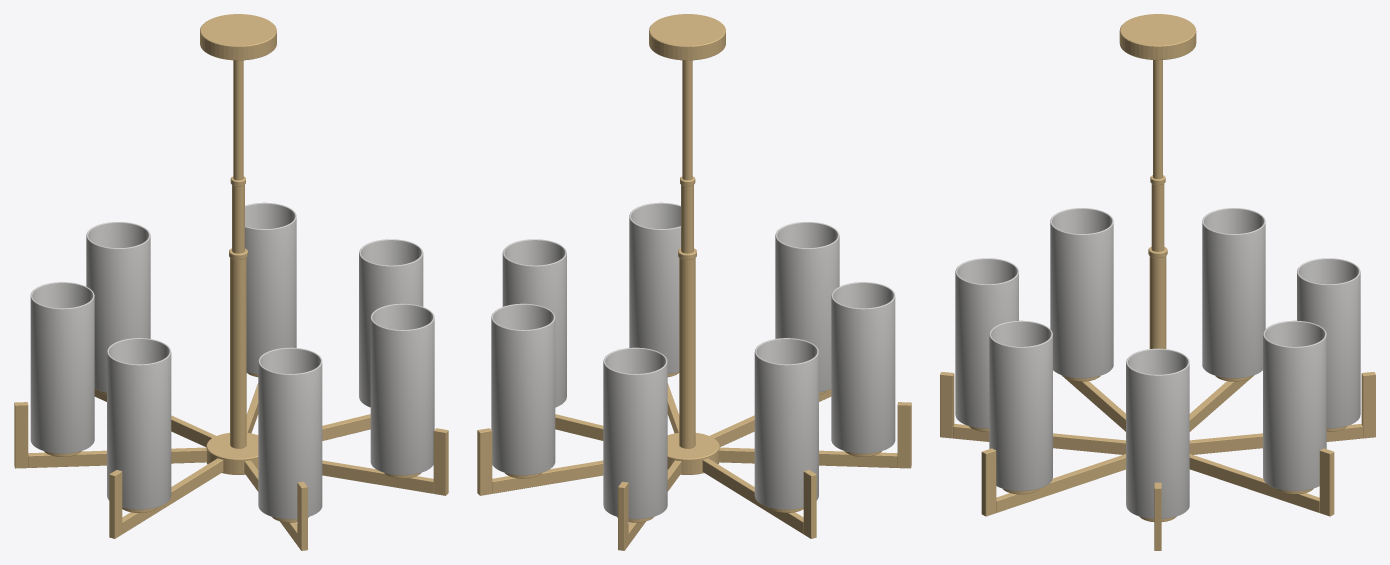
The picture shows the model from 3 angles, left to right: view 1: azimuth 30°, elevation 25°; view 2: azimuth 150°, elevation 25°; view 3: azimuth 270°, elevation 25°; orthographic projection.
Visible parts, largest first — view 1: shade, arm; view 2: shade, arm; view 3: shade, arm.
Boxes of the visible parts, left/top/right/bottom form: shade: left=30, top=202, right=434, bottom=519; arm: left=14, top=14, right=448, bottom=550; shade: left=491, top=202, right=895, bottom=519; arm: left=477, top=14, right=911, bottom=550; shade: left=955, top=208, right=1360, bottom=518; arm: left=940, top=14, right=1375, bottom=550.
Size of the model in its own units: 0.6675 by 0.752 by 0.6847.
